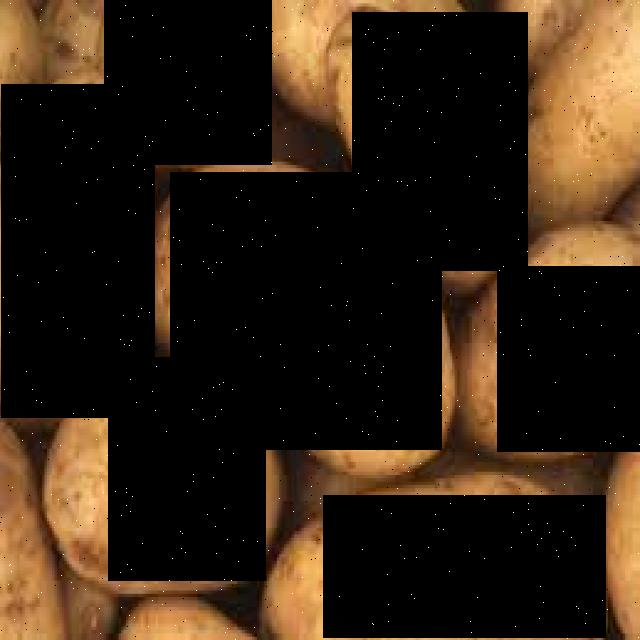Potato: (170, 172, 442, 450), (1, 84, 156, 418), (352, 12, 528, 271), (323, 495, 606, 638), (108, 357, 266, 581), (104, 0, 272, 165), (497, 266, 640, 452)
